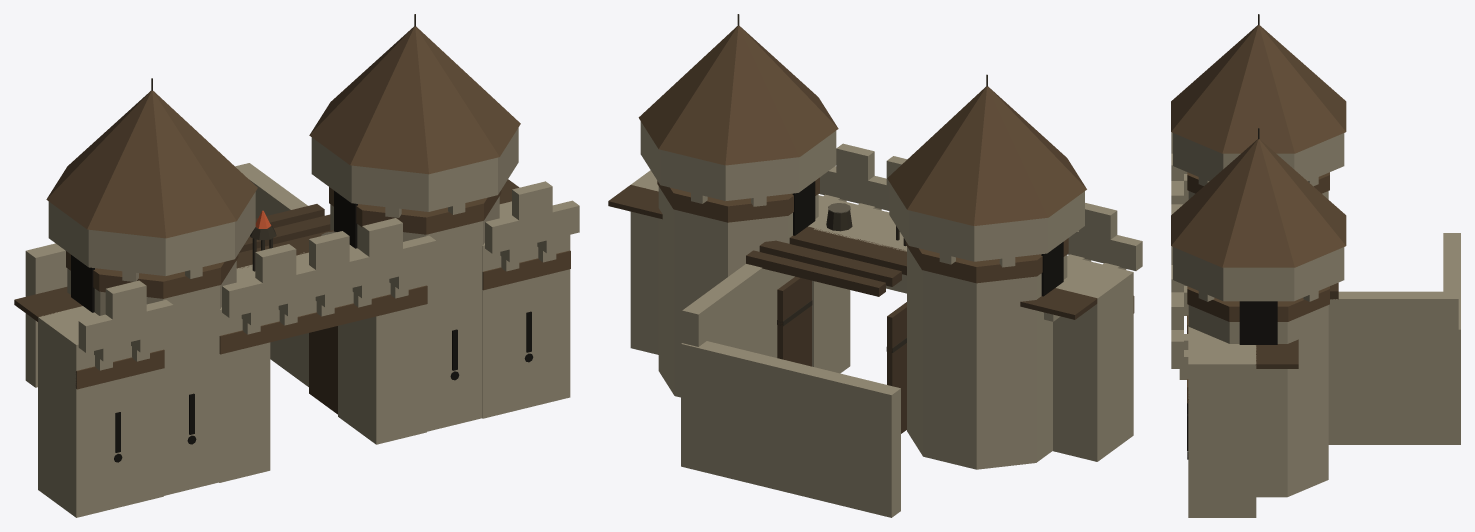
File: LateBarbican.fbx
3 views of the same model, side by side, from view 1: azimuth 30°, elevation 25°; view 2: azimuth 150°, elevation 25°; view 3: azimuth 270°, elevation 25° (orthographic). The views are drawn at different scales.
Visible parts, largest first — view 1: LateBarbican; view 2: LateBarbican; view 3: LateBarbican.
Boxes of the visible parts, left/top/right/bottom form: LateBarbican: left=14, top=14, right=579, bottom=517; LateBarbican: left=608, top=14, right=1142, bottom=517; LateBarbican: left=1171, top=14, right=1460, bottom=517.
Size of the model in its own units: 1202 by 889 by 688.
Materials: 7 (7 with a texture image).
